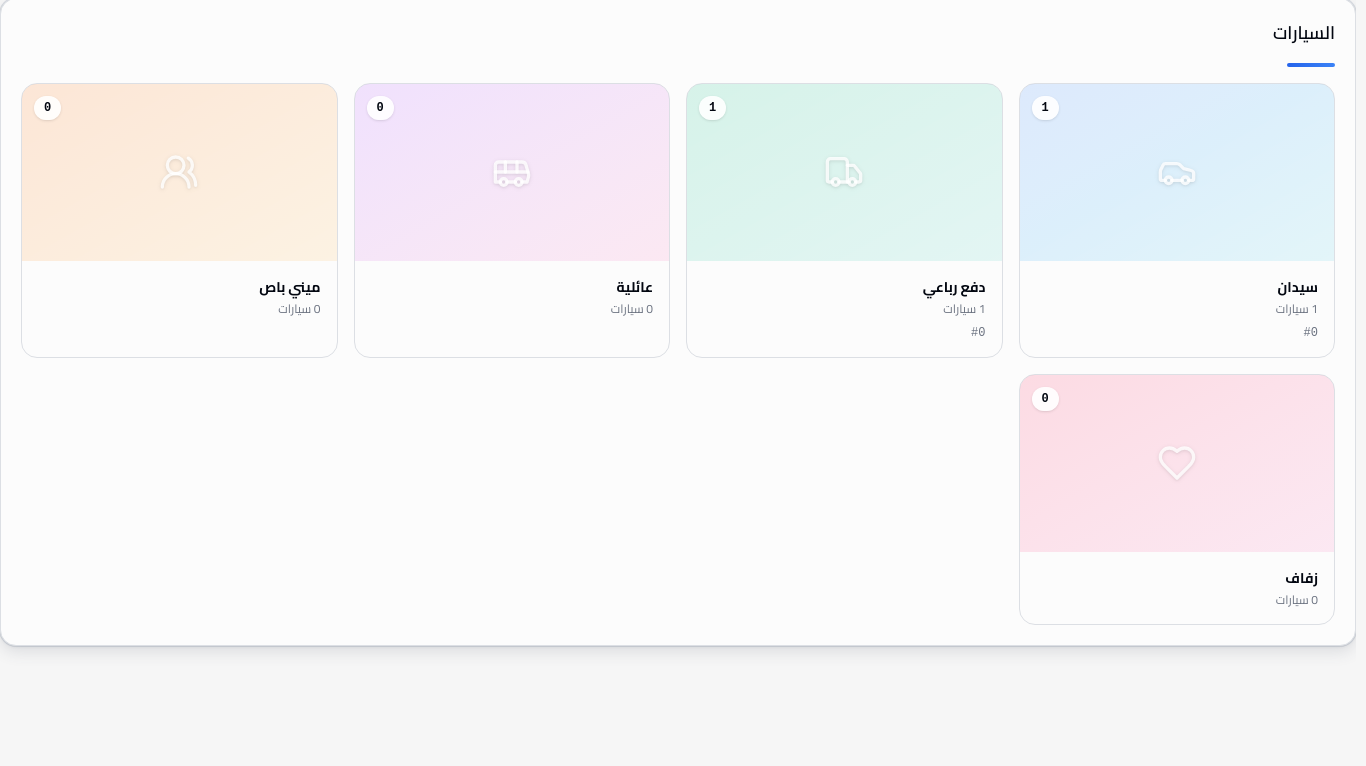
Test case: CarAdmin cars visible directly, no expand needed › drilldown shows every car expanded without clicking
Click the button with test id "category-card-sedan": click(1177, 220) x1=1018 y1=83 x2=1335 y2=358
(page scrolled)
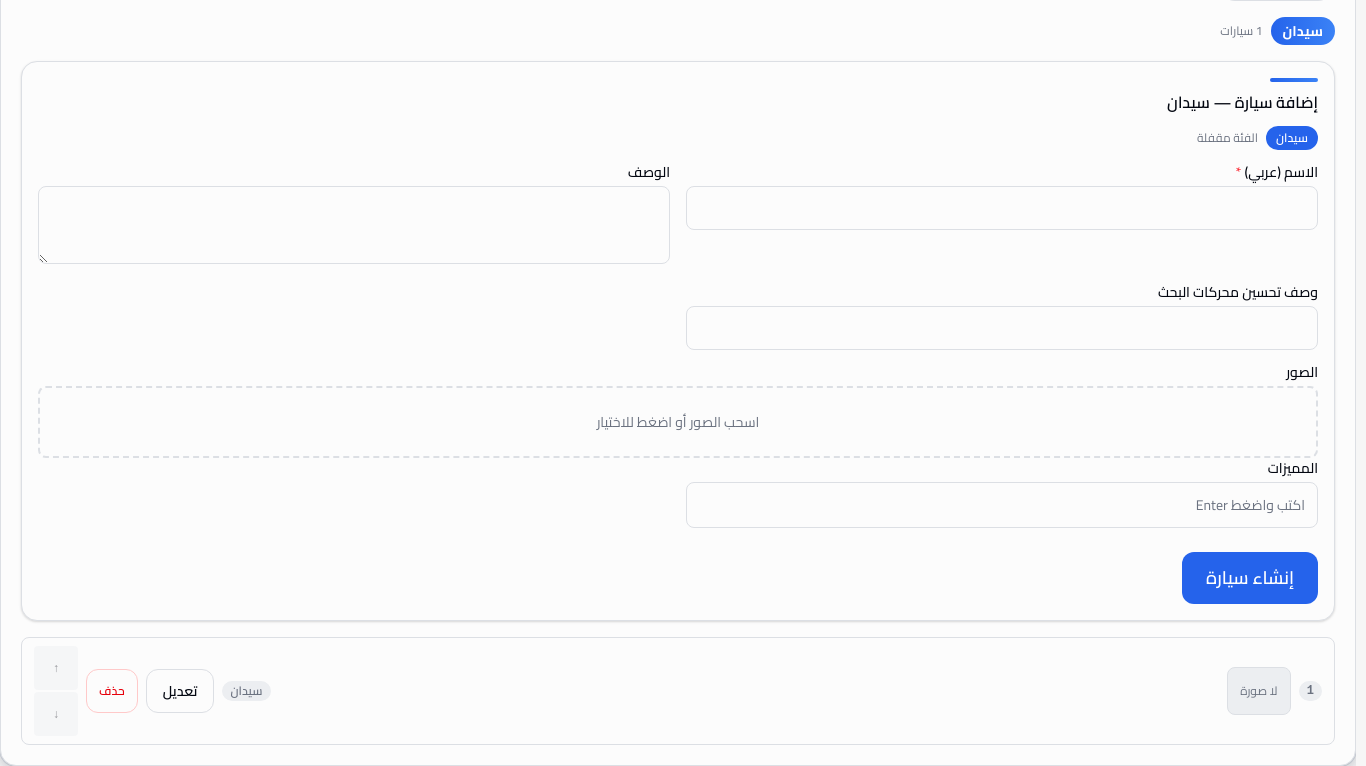
Expected: the button with test id "car-imagerow-edit-car-sedan-1-0" is shown, x1=146 y1=669 x2=214 y2=713
